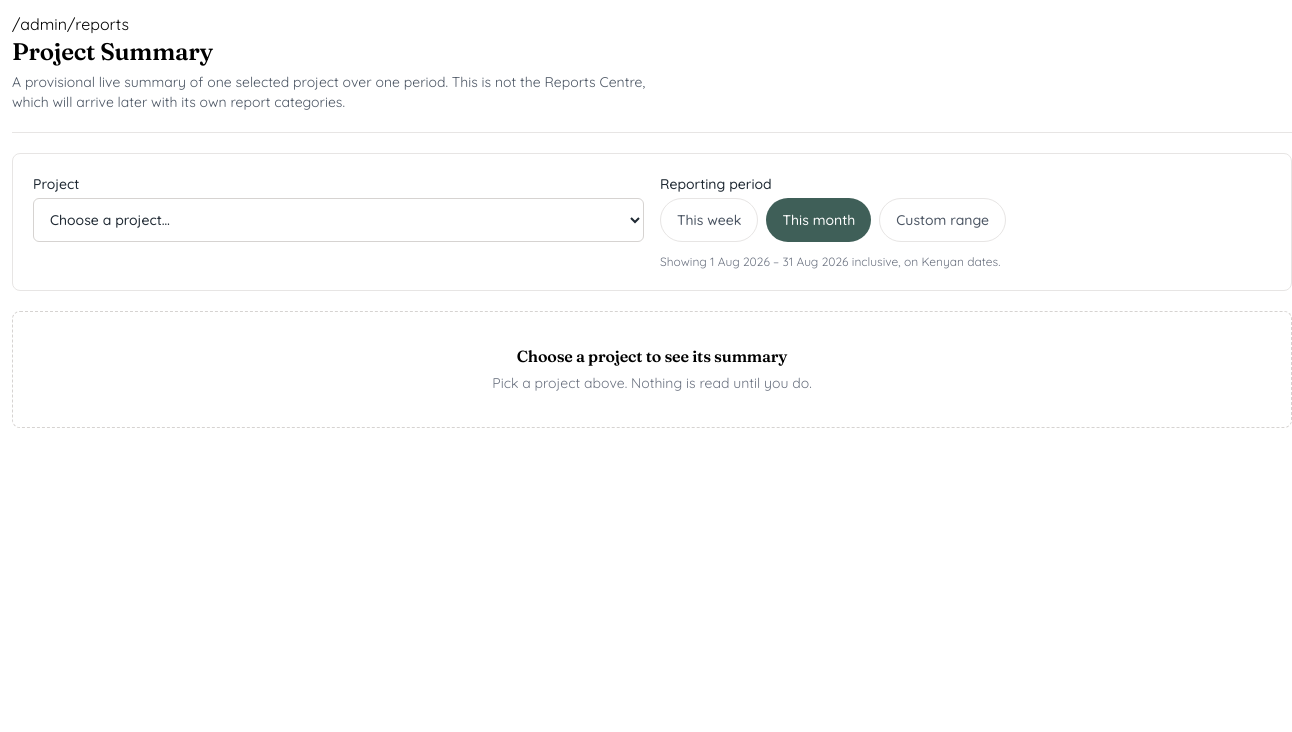
Test: Reports route › keeps the project and the period in the URL so drill-through preserves context
This screenshot has width=1292, height=732.
Select "Alego Usonga" in the dropdown labelled "Project" at (338, 220), box top-left (33, 198), bottom-right (644, 242)
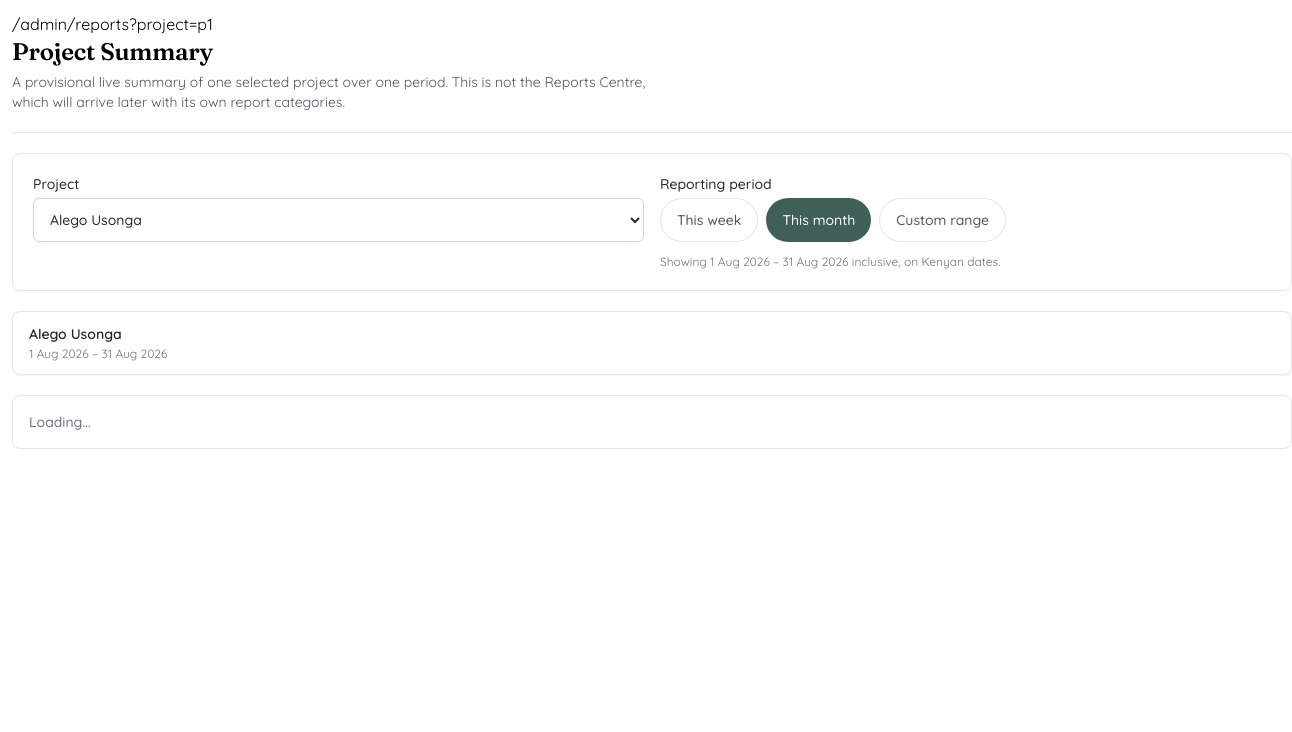
Expected: the text with test id "location" shows "project=p1", top-left (12, 14), bottom-right (213, 34)
Click the button "This week".
click(709, 220)  # box top-left (660, 198), bottom-right (758, 242)
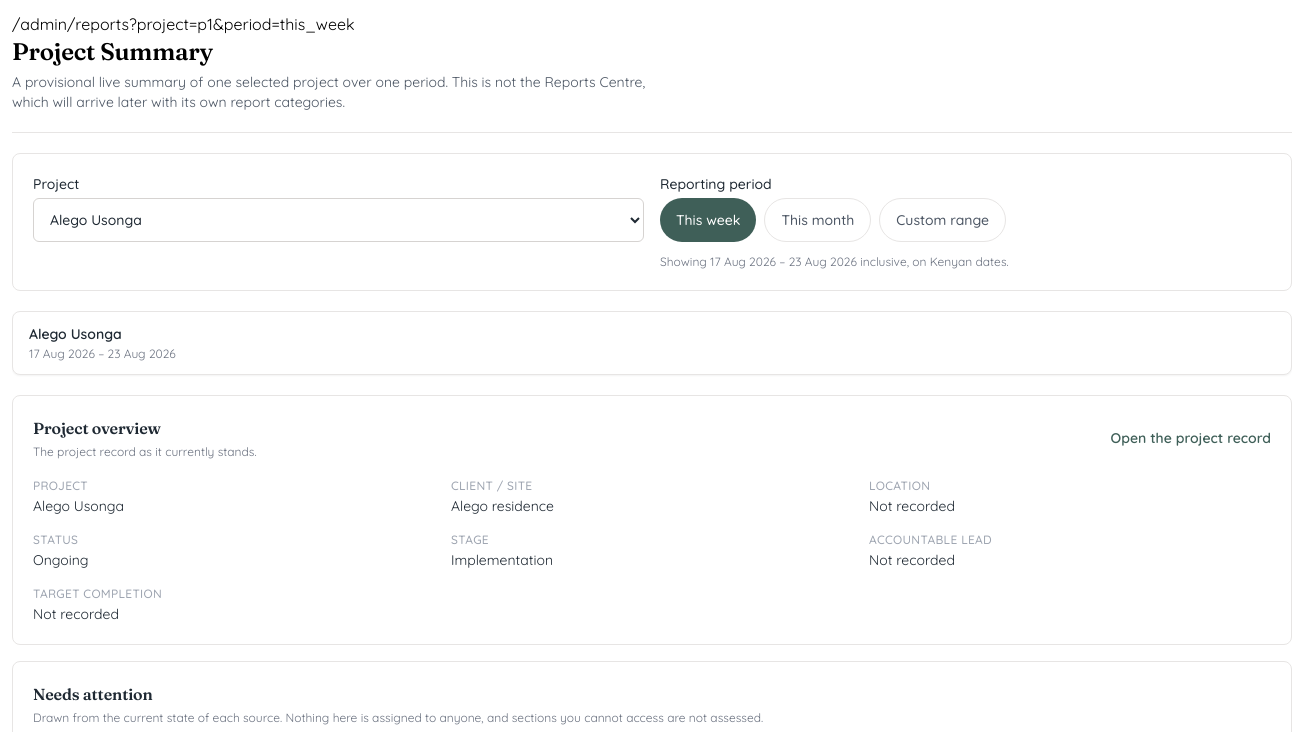
Expected: the text with test id "location" shows "period=this_week", top-left (12, 14), bottom-right (354, 34)
